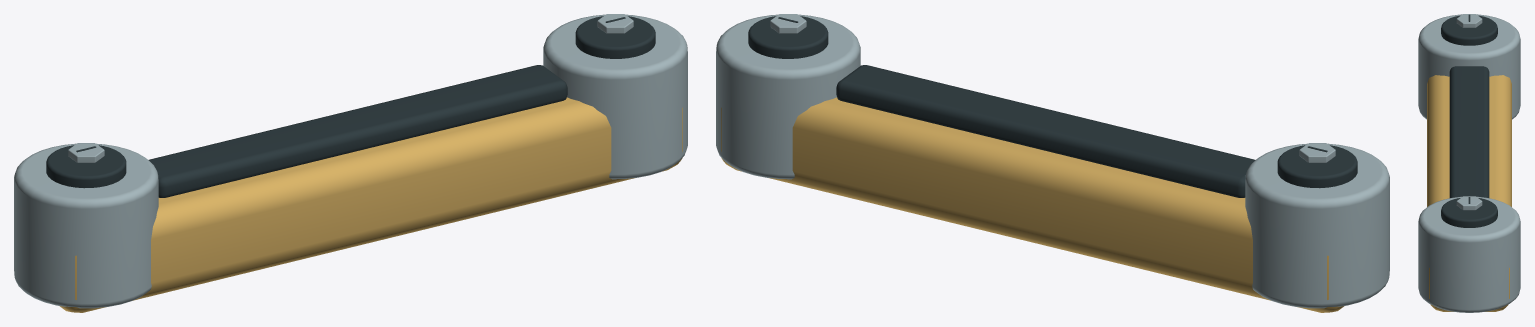
File: SM_VArm.fbx
3 views of the same model, side by side, from view 1: azimuth 30°, elevation 25°; view 2: azimuth 150°, elevation 25°; view 3: azimuth 270°, elevation 25° (orthographic). The views are drawn at different scales.
Visible parts, largest first — view 1: SM_VArm; view 2: SM_VArm; view 3: SM_VArm.
Part boxes in pixels (left/top/right/bottom): SM_VArm: left=14, top=14, right=687, bottom=312; SM_VArm: left=716, top=14, right=1389, bottom=312; SM_VArm: left=1418, top=14, right=1520, bottom=312.
Bounding box in the file's own units: 94 × 18 × 19.59.
